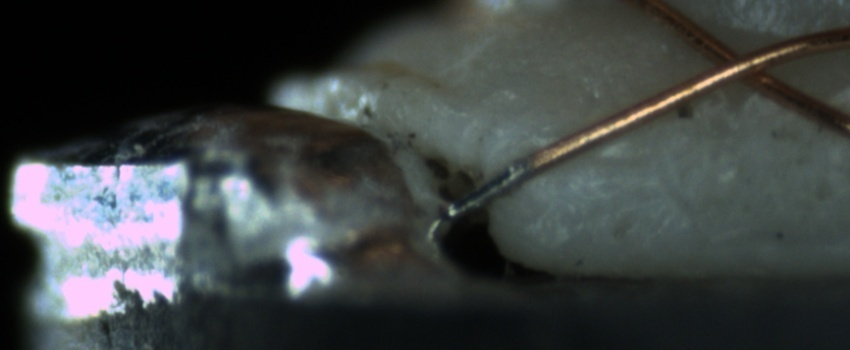CL: (690, 31, 796, 96)
DL: (551, 133, 651, 196)
TS: (444, 158, 529, 221)
